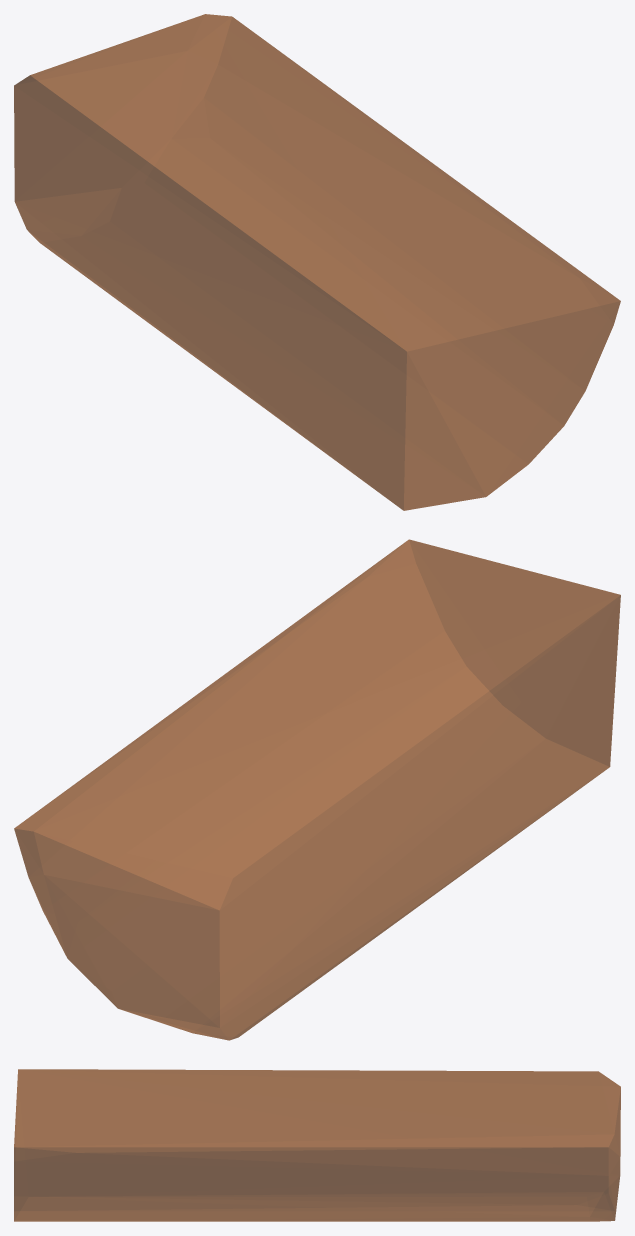
3 renders of one model, top to bottom at view 1: azimuth 30°, elevation 25°; view 2: azimuth 150°, elevation 25°; view 3: azimuth 270°, elevation 25°, orthographic. The views are drawn at different scales.
Parts seen in each view (by area): view 1: Shape_IndexedFaceSet.005_Shape_IndexedFaceSet.4351; view 2: Shape_IndexedFaceSet.005_Shape_IndexedFaceSet.4351; view 3: Shape_IndexedFaceSet.005_Shape_IndexedFaceSet.4351.
Part boxes in pixels (x1,y1,x2,y2): Shape_IndexedFaceSet.005_Shape_IndexedFaceSet.4351: [14, 14, 620, 510]; Shape_IndexedFaceSet.005_Shape_IndexedFaceSet.4351: [14, 539, 620, 1040]; Shape_IndexedFaceSet.005_Shape_IndexedFaceSet.4351: [14, 1069, 620, 1221].
Bounding box in the file's own units: 0.1904 × 0.1517 × 0.6193.
